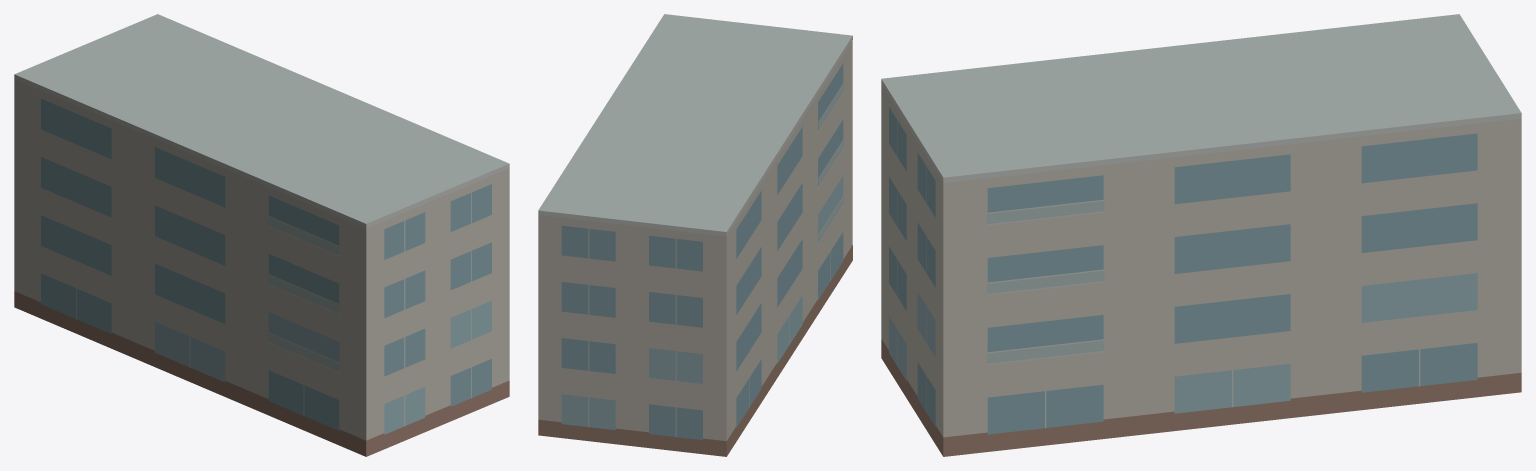
Rendered from residential-47e803cb-a372-4a61-8d5e-b1c9ee4b16c8.glb.
The picture shows the model from 3 angles, left to right: view 1: azimuth 30°, elevation 25°; view 2: azimuth 150°, elevation 25°; view 3: azimuth 270°, elevation 25°; orthographic projection. The views are drawn at different scales.
Parts seen in each view (by area): view 1: residential-47e803cb-a372-4a61-8d5e-b1c9ee4b16c8.tmp; view 2: residential-47e803cb-a372-4a61-8d5e-b1c9ee4b16c8.tmp; view 3: residential-47e803cb-a372-4a61-8d5e-b1c9ee4b16c8.tmp.
Part boxes in pixels (bbox=[...]): residential-47e803cb-a372-4a61-8d5e-b1c9ee4b16c8.tmp: bbox=[14, 14, 509, 456]; residential-47e803cb-a372-4a61-8d5e-b1c9ee4b16c8.tmp: bbox=[538, 14, 852, 456]; residential-47e803cb-a372-4a61-8d5e-b1c9ee4b16c8.tmp: bbox=[881, 14, 1521, 456].
Size of the model in its own units: 15.35 by 12.2 by 25.37.
